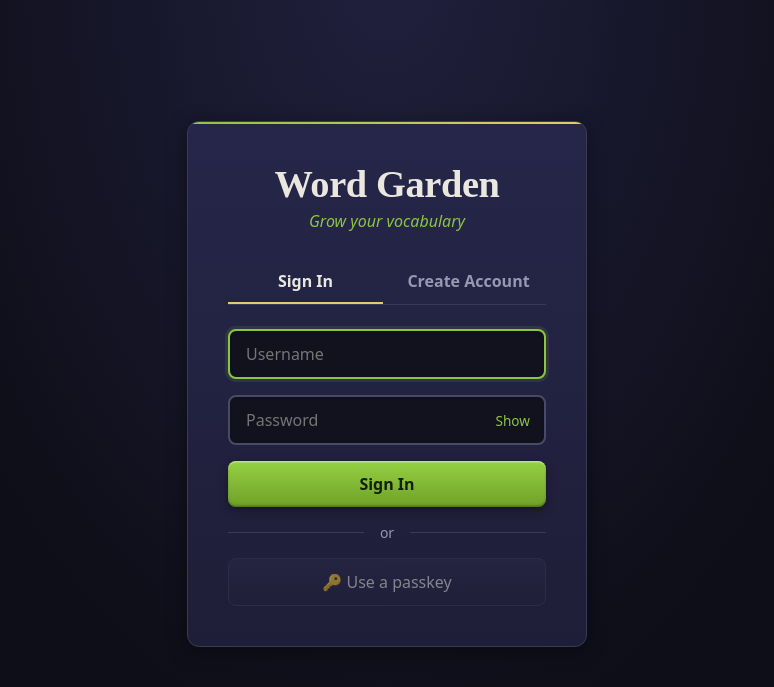
Test: Server error mapping › maps a 409 to a username-field error when registering
Click the tab "Create Account" at (468, 282), box [391,260,546,304]
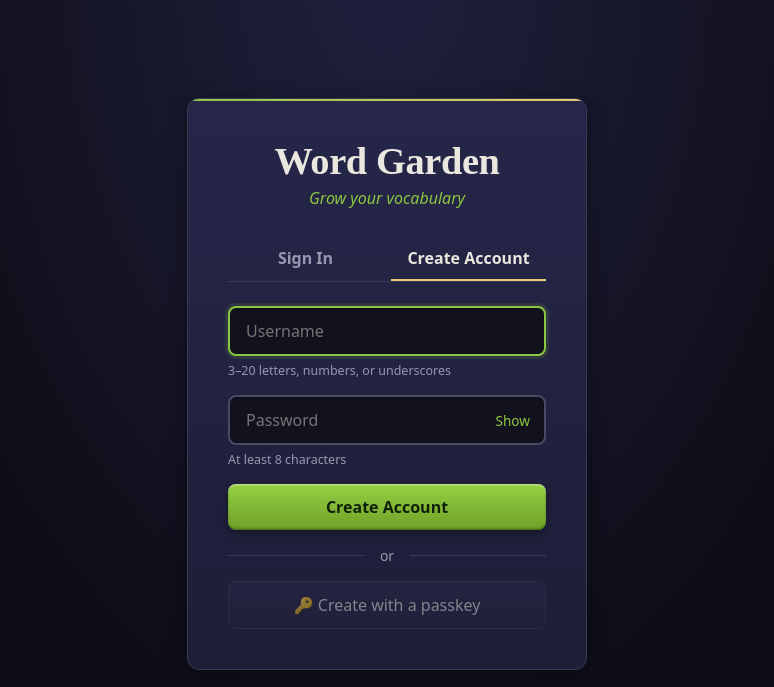
Type "alice" into the field with placeholder "Username" at (387, 331), box [228,306,546,356]
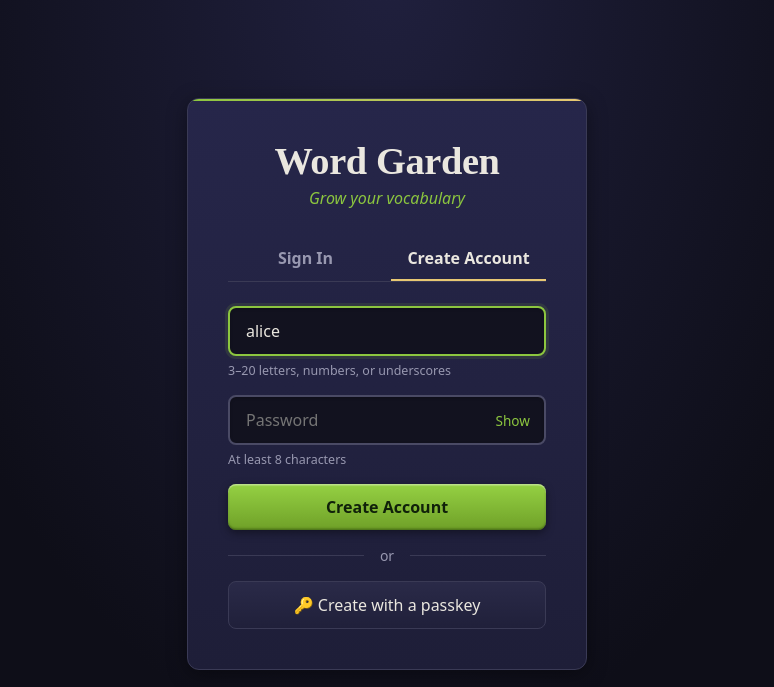
Type "password123" into the password field with placeholder "Password" at (387, 420), box [228,395,546,445]
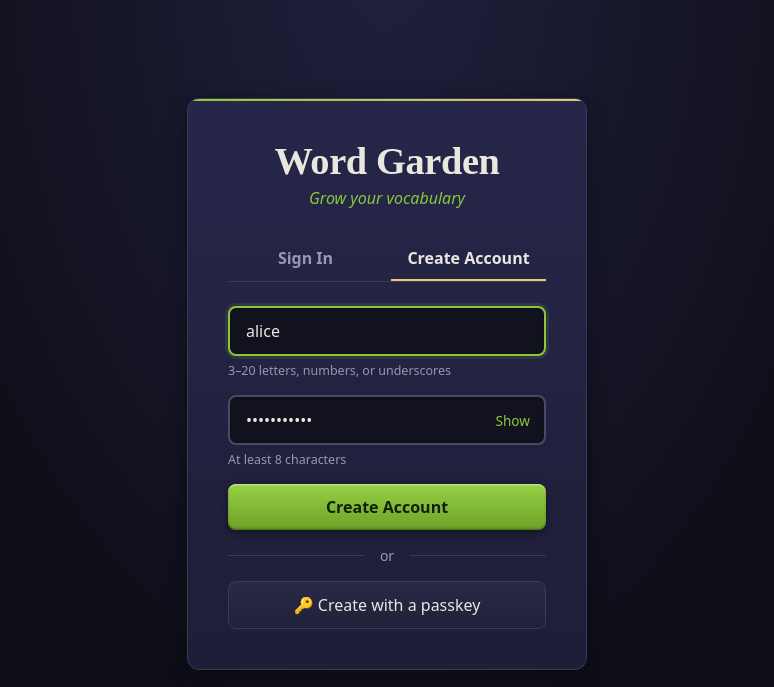
Submit the form, box [228,306,546,629]
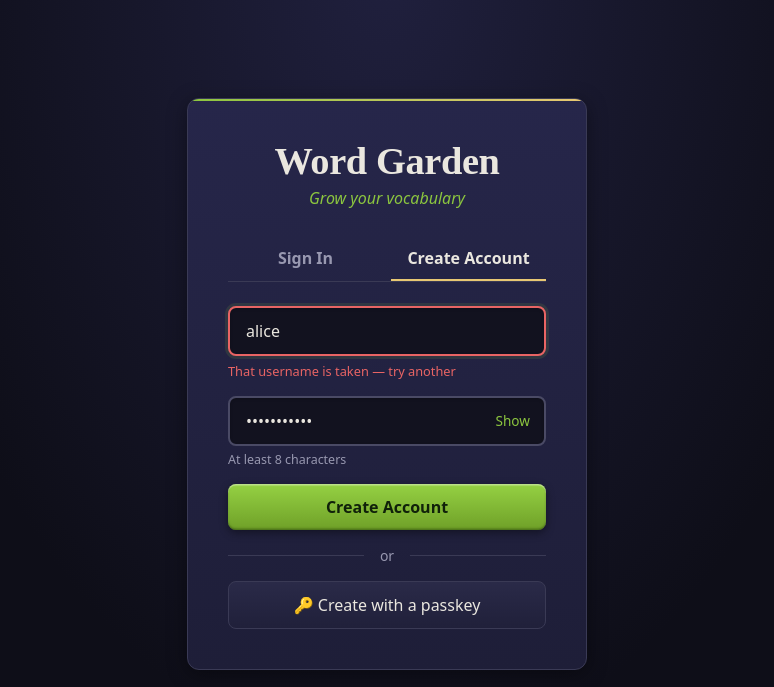
Expected: the text "That username is taken — try another" is shown, [228,362,456,380]
